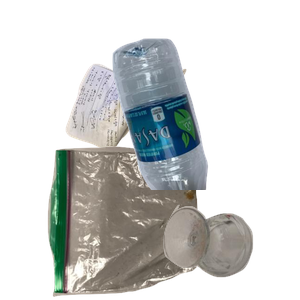glass: (161, 202, 300, 300)
paper: (63, 61, 242, 206)
plastic: (110, 36, 300, 216)
trash: (45, 144, 235, 300)
